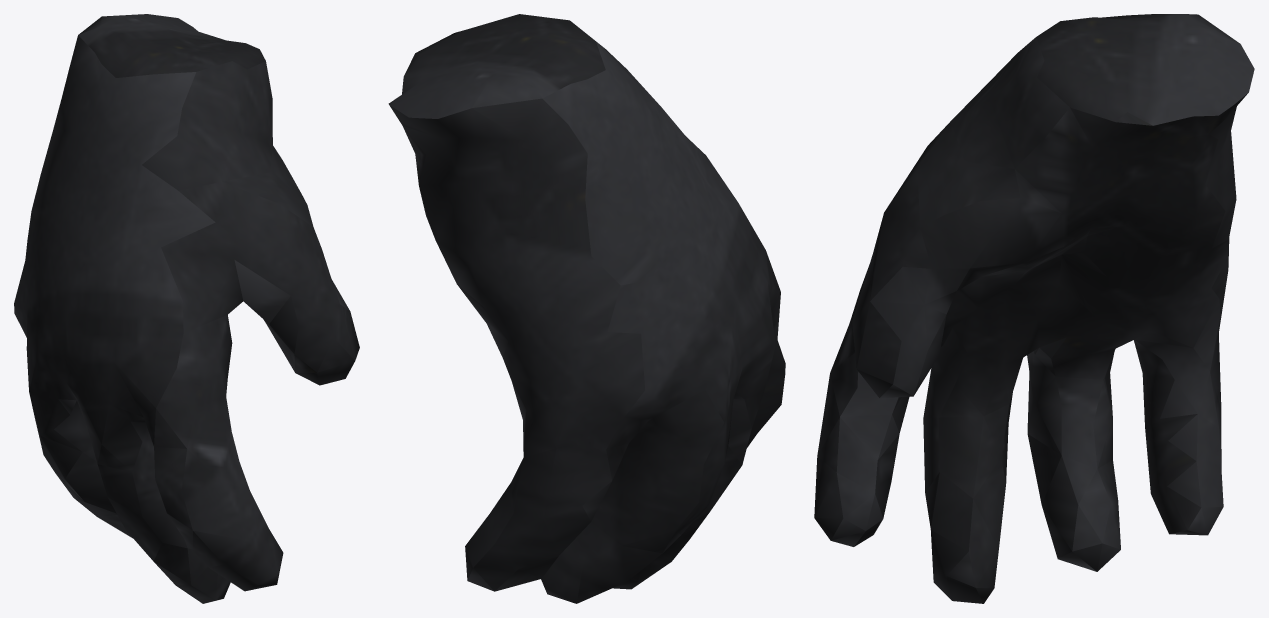
Rendered from sigismund_mano_der.obj.
3 renders of one model, left to right at view 1: azimuth 30°, elevation 25°; view 2: azimuth 150°, elevation 25°; view 3: azimuth 270°, elevation 25°, orthographic. The views are drawn at different scales.
Parts seen in each view (by area): view 1: mano_der; view 2: mano_der; view 3: mano_der.
Part boxes in pixels (x1,y1,x2,y2): mano_der: [14, 14, 359, 603]; mano_der: [388, 14, 785, 603]; mano_der: [814, 14, 1254, 603].
Size of the model in its own units: 0.1872 by 0.3636 by 0.2488.
